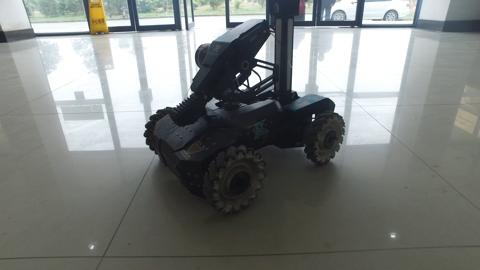car: (323, 1, 411, 23)
chariot: (142, 1, 345, 214)
